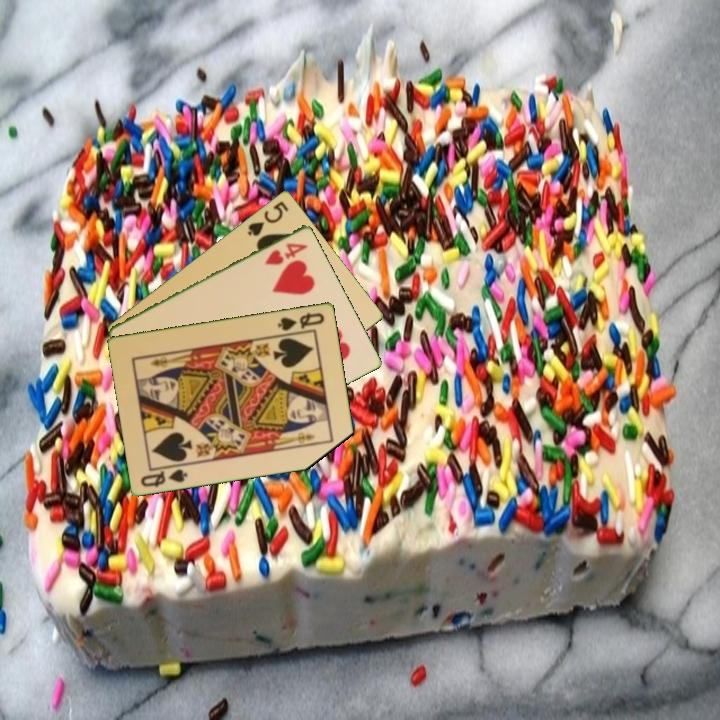4h: (261, 239, 311, 268)
5s: (244, 197, 291, 239)
Qs: (137, 461, 191, 490), (274, 309, 328, 333)
